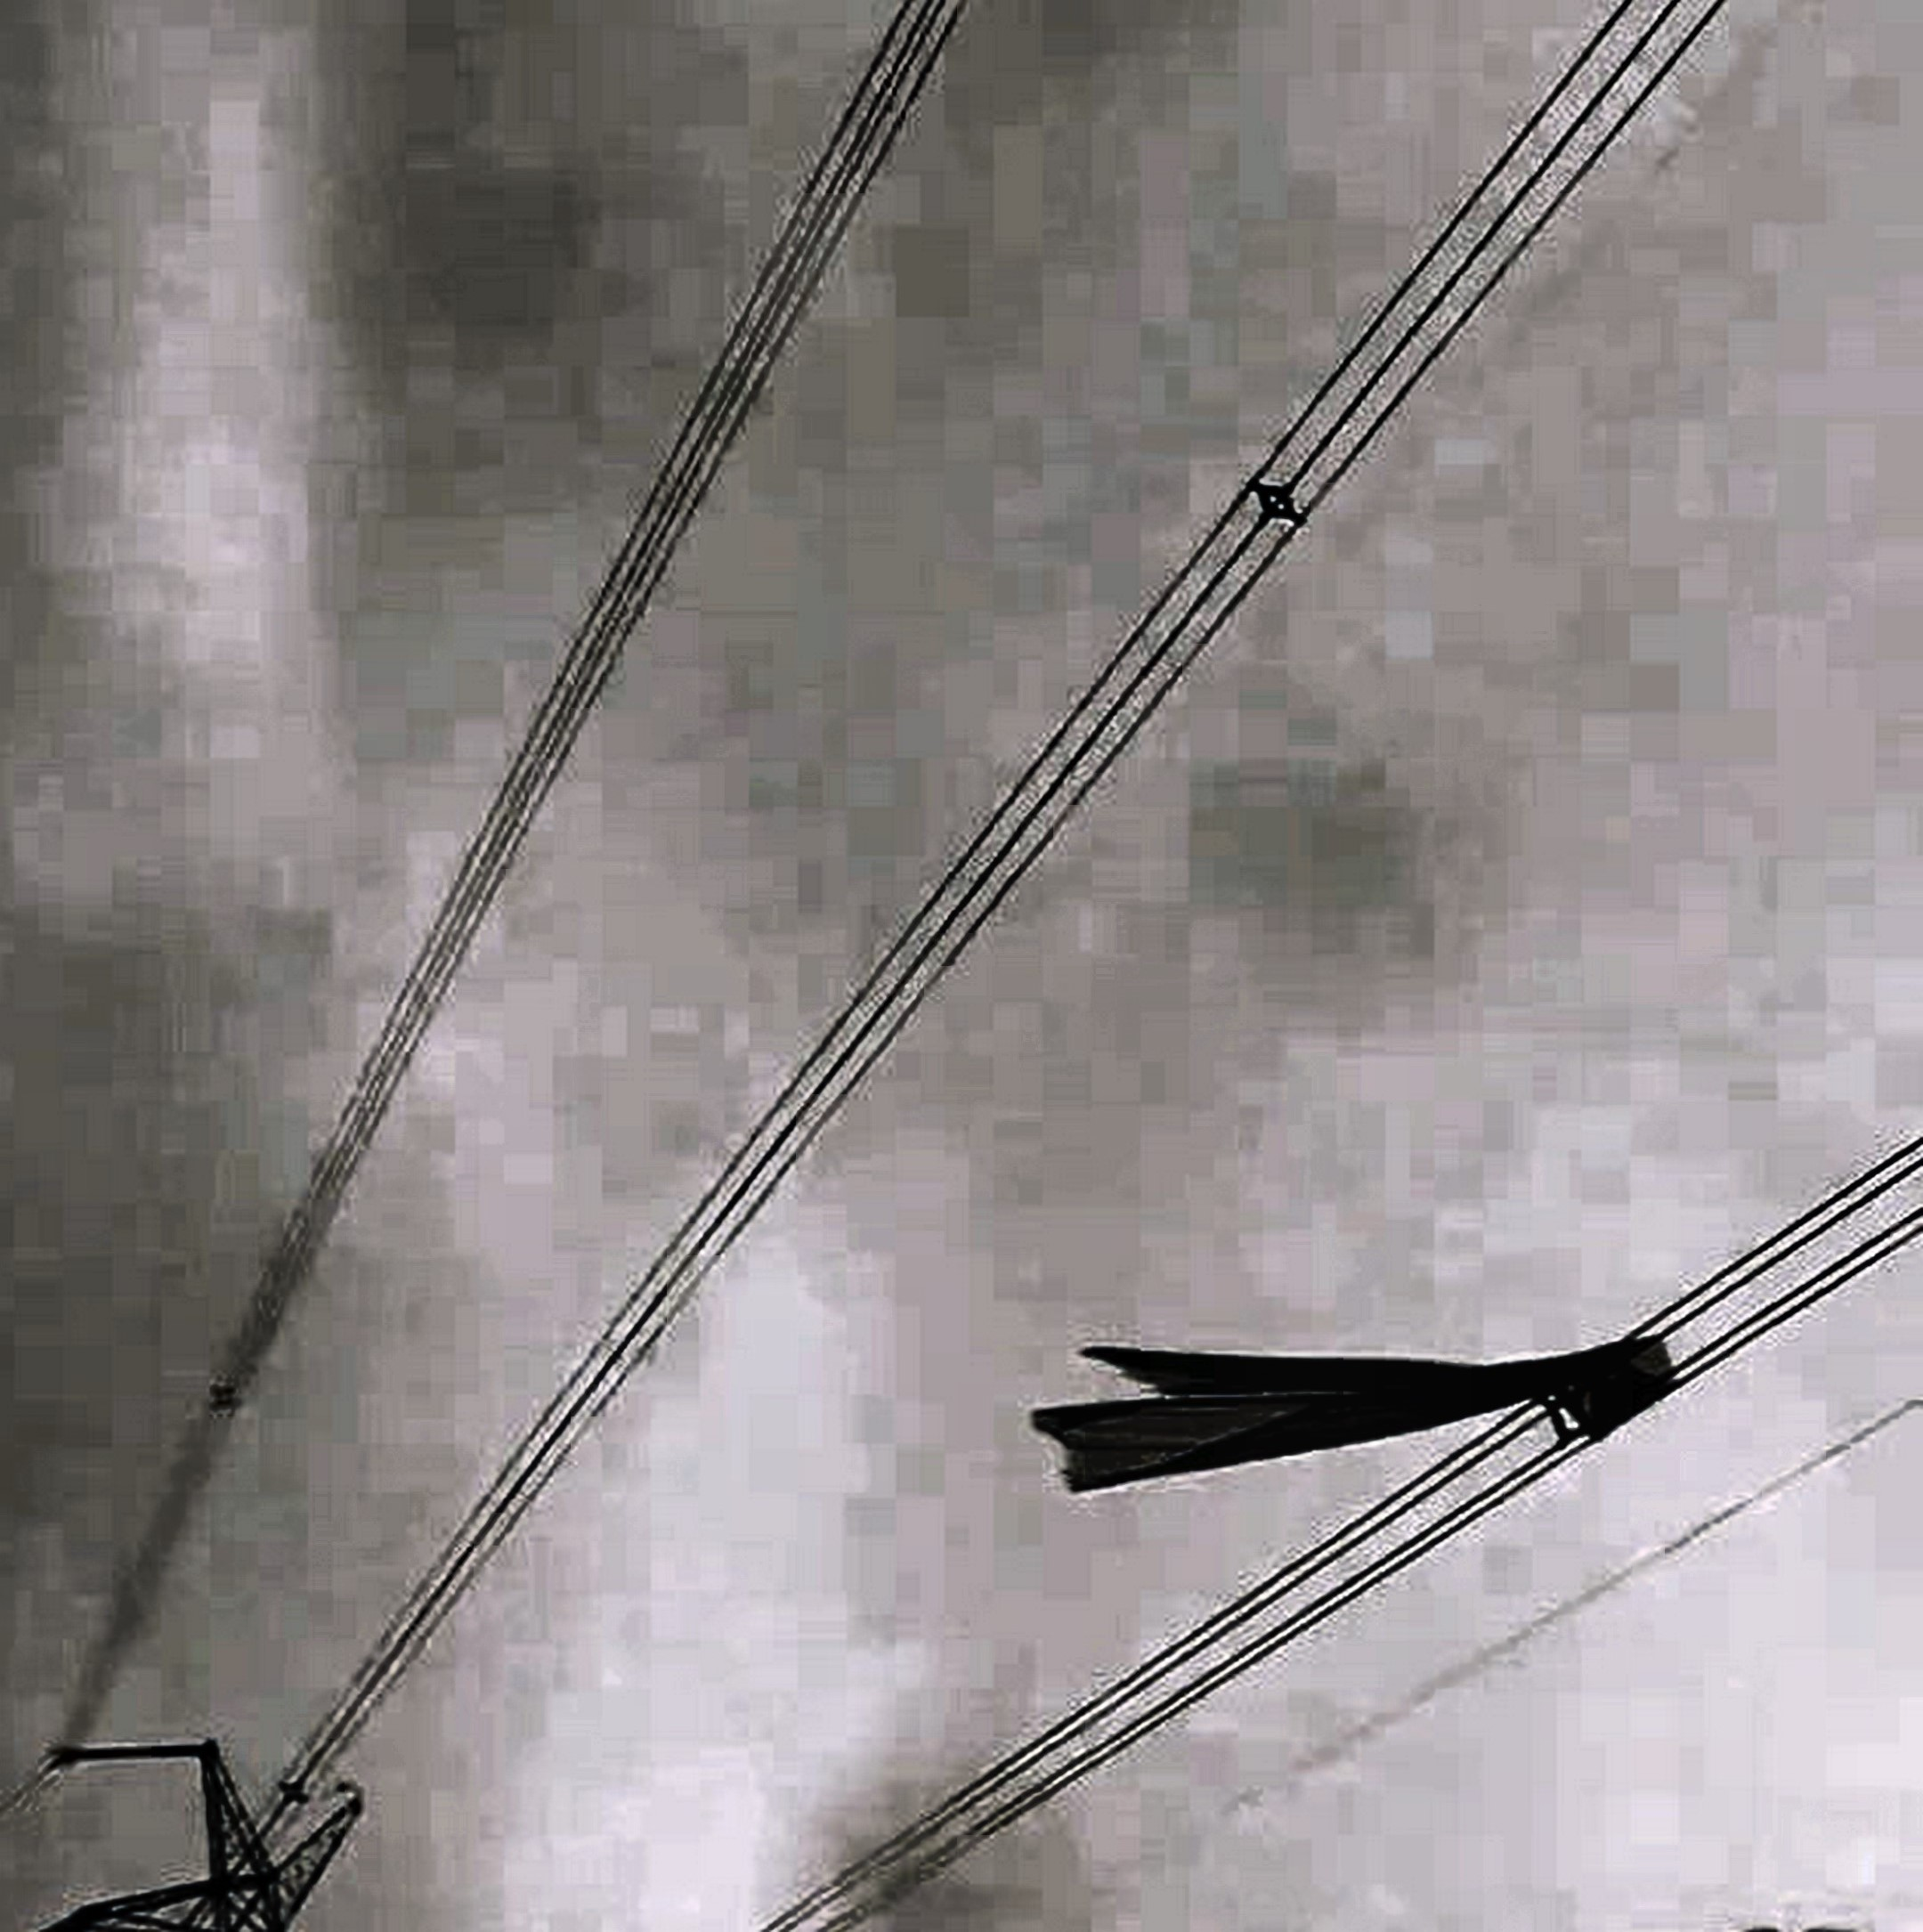wire foreign body: (1018, 1300, 1712, 1534)
